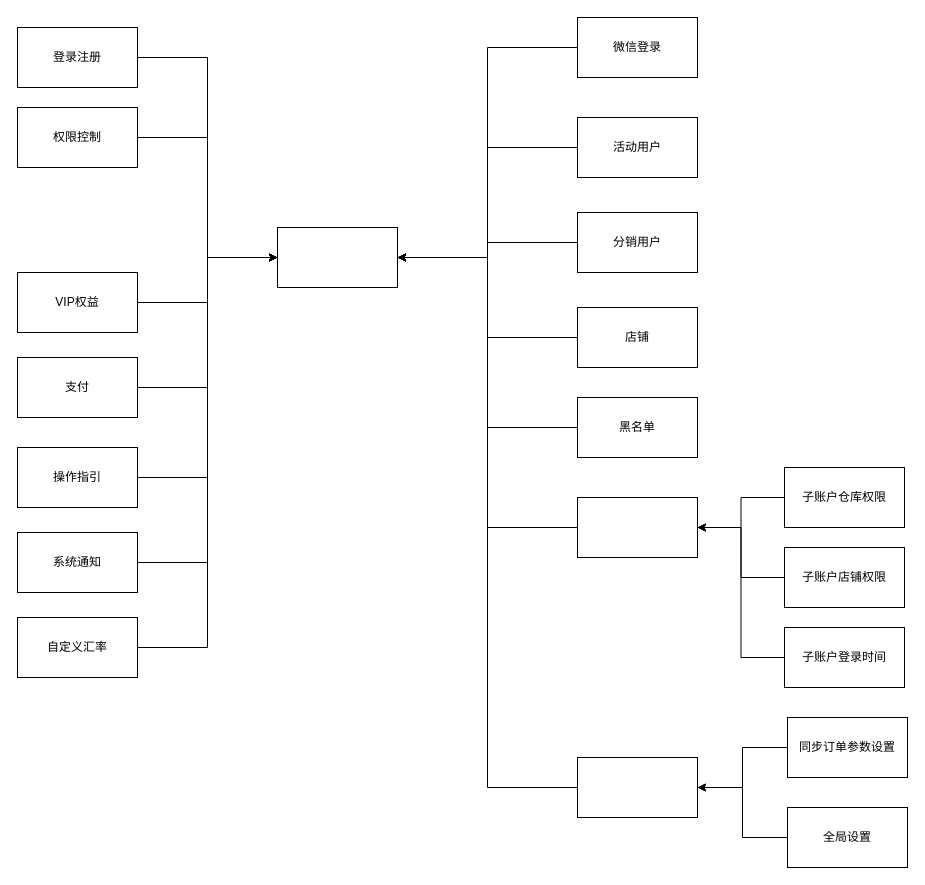
This 925x885 diagram has some shape labels left out. The box of each missing label's shape, as (x1, y1, x2, y2) in pixels:
个性化设置: (576, 756, 698, 818)
子账户: (576, 496, 698, 558)
用户: (276, 226, 398, 288)
